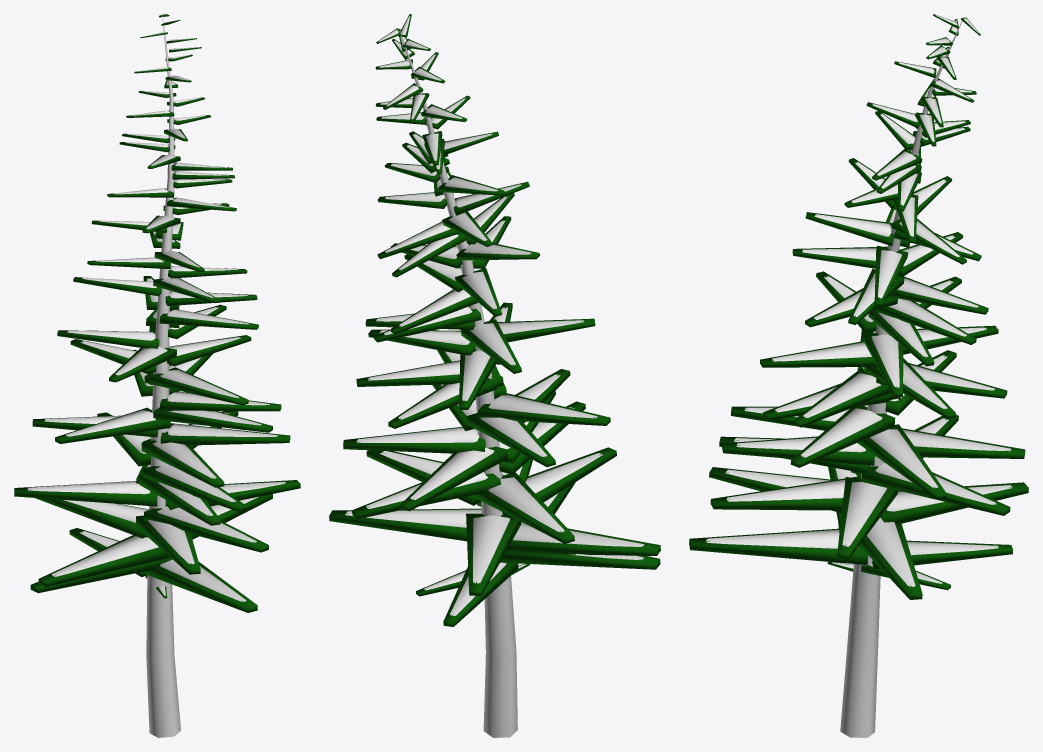
The model's file is tree2.fbx.
3 renders of one model, left to right at view 1: azimuth 30°, elevation 25°; view 2: azimuth 150°, elevation 25°; view 3: azimuth 270°, elevation 25°, orthographic. The views are drawn at different scales.
Visible parts, largest first — view 1: Tree2.056, Tree2.001, Tree2.048, Tree2.073, Tree2.080, Tree2.093, Tree2.038, Tree2.066, Tree2.086, Tree2.106, Tree2.100, Tree2.112 (+6 smaller); view 2: Tree2.048, Tree2.056, Tree2.001, Tree2.066, Tree2.093, Tree2.073, Tree2.038, Tree2.086, Tree2.117, Tree2.106, Tree2.080, Tree2.124 (+7 smaller); view 3: Tree2.056, Tree2.066, Tree2.038, Tree2.001, Tree2.048, Tree2.086, Tree2.073, Tree2.080, Tree2.100, Tree2.093, Tree2.106, Tree2.117 (+7 smaller).
Part boxes in pixels (x1,y1,x2,y2): Tree2.056: (14,464,300,564); Tree2.001: (146,15,180,737); Tree2.048: (35,494,272,586); Tree2.073: (32,407,290,487); Tree2.080: (66,349,281,436); Tree2.093: (57,304,251,382); Tree2.038: (30,528,257,612); Tree2.066: (97,411,245,515); Tree2.086: (70,339,248,405); Tree2.106: (73,277,257,305); Tree2.100: (143,276,258,329); Tree2.112: (87,257,247,297); Tree2.048: (329,447,660,595); Tree2.056: (352,401,602,543); Tree2.001: (399,30,517,737); Tree2.066: (343,391,574,511); Tree2.093: (365,313,595,373); Tree2.073: (431,365,610,467); Tree2.038: (416,482,660,626); Tree2.086: (356,302,512,419); Tree2.117: (377,193,514,277); Tree2.106: (399,216,511,326); Tree2.080: (388,350,597,428); Tree2.124: (377,166,529,240); Tree2.056: (710,415,1010,558); Tree2.066: (722,424,1025,499); Tree2.038: (689,523,1013,590); Tree2.001: (840,21,962,737); Tree2.048: (709,466,1028,599); Tree2.086: (760,325,998,419); Tree2.073: (730,329,956,467); Tree2.080: (762,363,1007,427); Tree2.100: (804,275,988,357); Tree2.093: (816,271,961,396); Tree2.106: (792,232,978,324); Tree2.117: (805,176,981,264).
Size of the model in its own units: 98.42 by 235 by 97.18.
